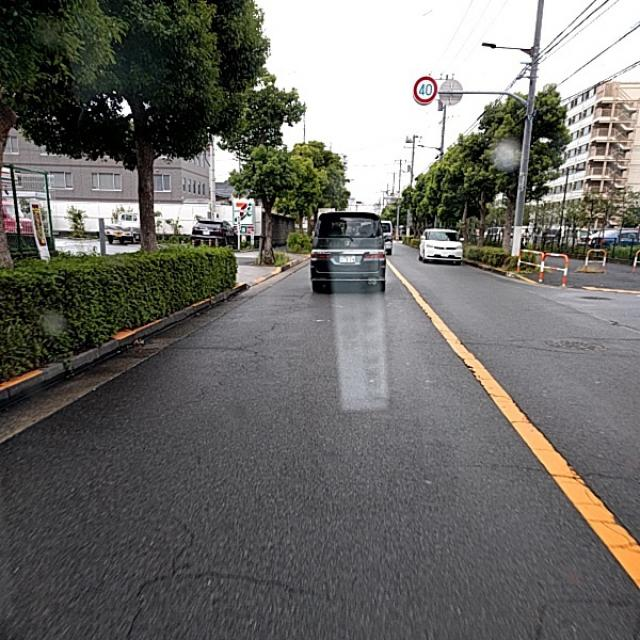pothole: (138, 483, 213, 582)
